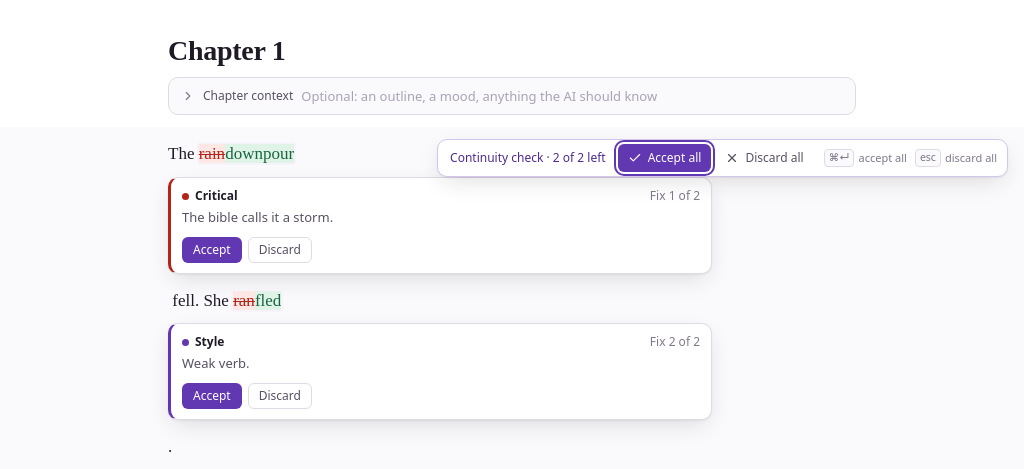
Test: ProposalLayer, suggestion sets › discards one fix without touching the prose
Step 1. Click the button with aria-label "Discard fix 1" → coordinates (280, 250), box [248, 237, 312, 263]
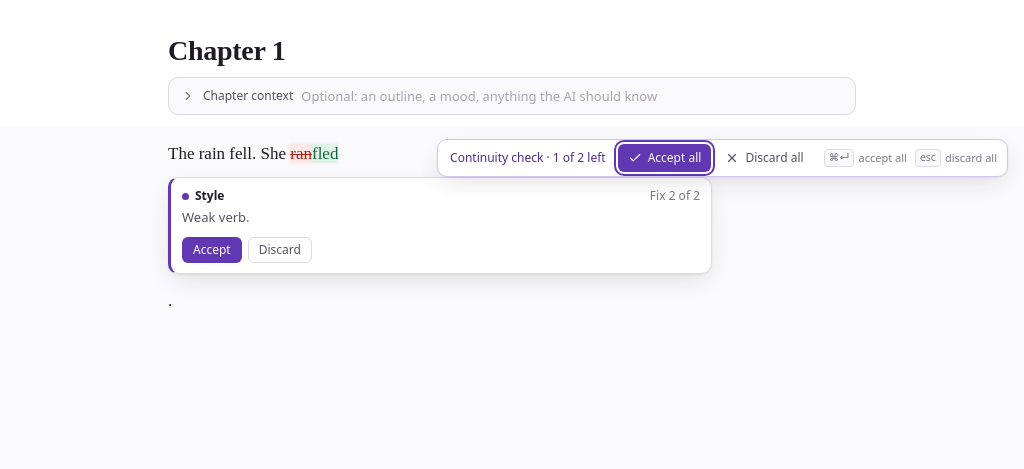
Now the number of elements with class "cm-suggestion-card" is 1, box [168, 177, 712, 274]
